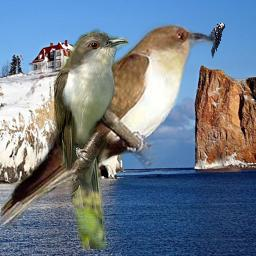Cuckoo: (1, 22, 215, 229), (54, 25, 129, 249)
Woodpecker: (208, 21, 225, 59)
